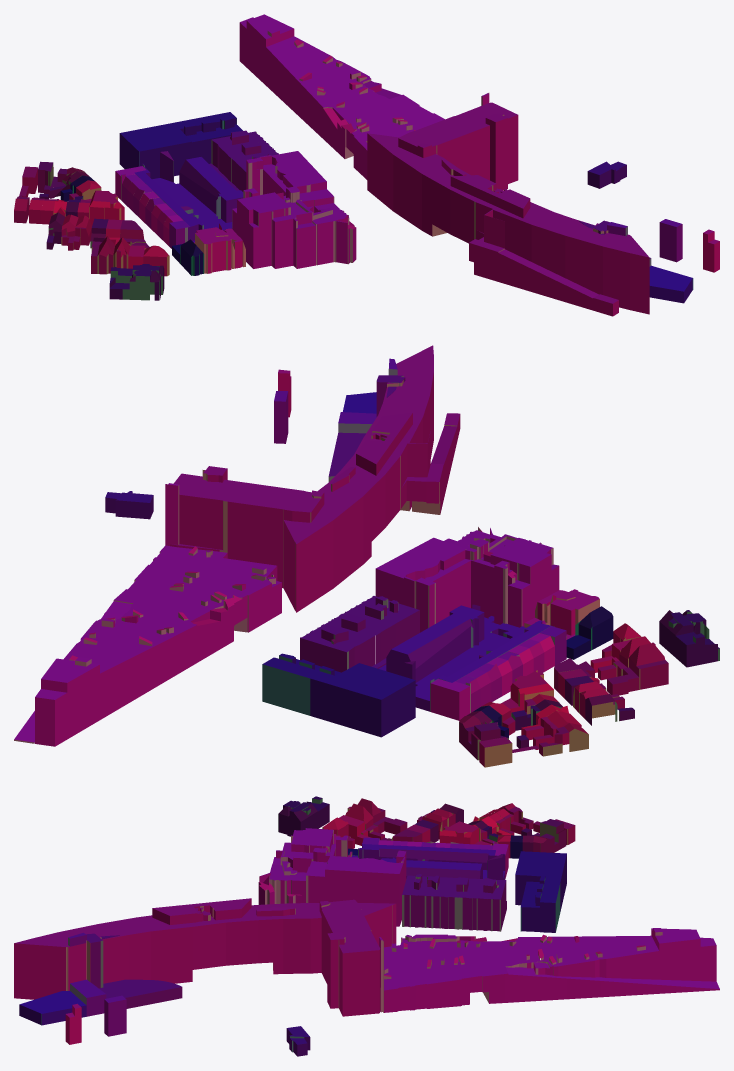
File: buildings_8_7.glb
3 views of the same model, one above another, from view 1: azimuth 30°, elevation 25°; view 2: azimuth 150°, elevation 25°; view 3: azimuth 270°, elevation 25° (orthographic). The views are drawn at different scales.
Visible parts, largest first — view 1: buildings_8_7; view 2: buildings_8_7; view 3: buildings_8_7.
Part boxes in pixels (bbox=[...]): buildings_8_7: bbox=[14, 14, 719, 316]; buildings_8_7: bbox=[14, 345, 719, 767]; buildings_8_7: bbox=[14, 796, 719, 1056].
Bounding box in the file's own units: 215 × 29.72 × 265.
